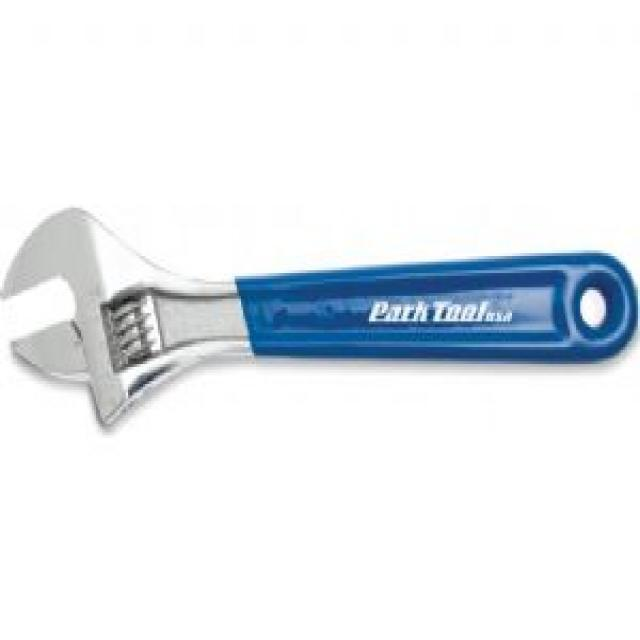wrench: (0, 199, 640, 438)
